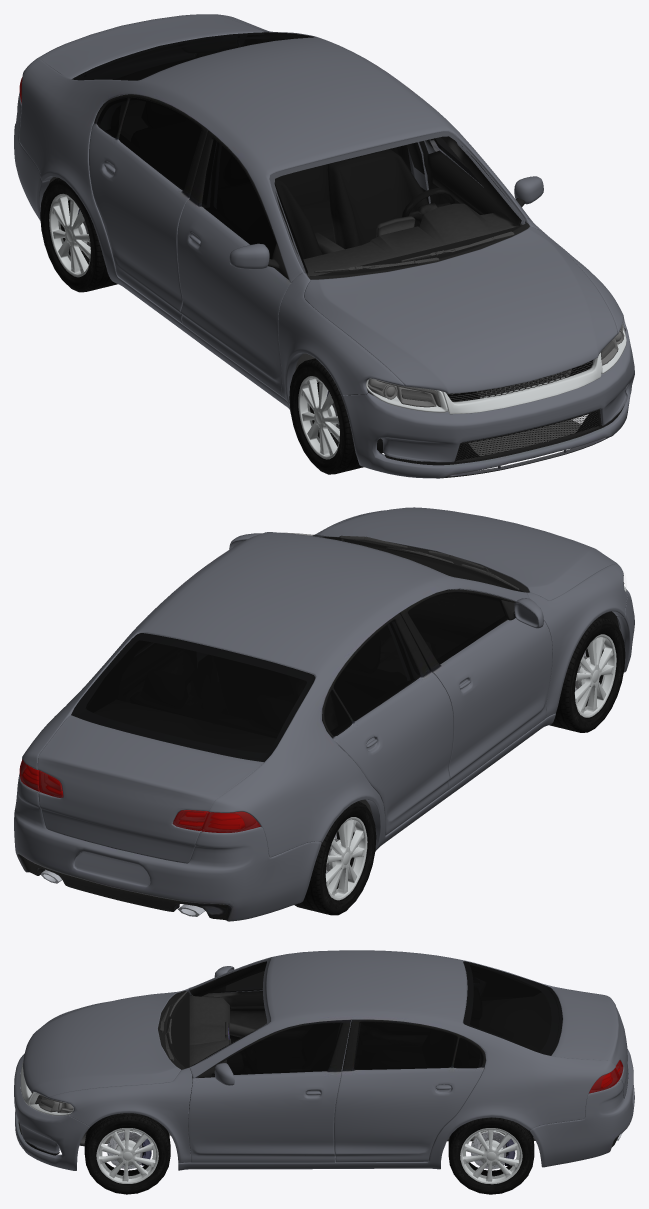
File: sedan-medio.glb
The picture shows the model from 3 angles, top to bottom: view 1: azimuth 30°, elevation 25°; view 2: azimuth 150°, elevation 25°; view 3: azimuth 270°, elevation 25°; orthographic projection. The views are drawn at different scales.
Parts seen in each view (by area): view 1: sedan-unibody_65, hood_60, windshield_102, bumper-front_8, door-front-r_17, door-rear-r_23, front-seat-backrest_39, fender-front-r_33, dashboard_13, trunk_99, door-rear-window-glass-r_27, door-front-window-glass-r_19 (+22 smaller); view 2: sedan-unibody_65, glass-rear_42, trunk_99, bumper-rear_10, door-front-r_17, door-rear-r_23, hood_60, fender-front-r_33, door-rear-window-glass-r_27, door-front-window-glass-r_19, generic-tire-low.001_125, generic-tire-low.003_133 (+9 smaller); view 3: sedan-unibody_65, door-front-l_16, door-rear-l_22, hood_60, windshield_102, glass-rear_42, fender-front-l_32, bumper-rear_10, trunk_99, door-rear-window-glass-l_26, door-front-window-glass-l_18, bumper-front_8 (+14 smaller).
Boxes of the visible parts, x1,y1,x2,y2 form: sedan-unibody_65: [19, 14, 533, 410]; hood_60: [304, 226, 617, 393]; windshield_102: [270, 131, 526, 275]; bumper-front_8: [342, 328, 634, 478]; door-front-r_17: [177, 130, 291, 396]; door-rear-r_23: [89, 94, 208, 323]; front-seat-backrest_39: [327, 149, 428, 249]; fender-front-r_33: [278, 272, 404, 403]; dashboard_13: [303, 203, 520, 276]; trunk_99: [38, 14, 263, 78]; door-rear-window-glass-r_27: [119, 98, 201, 190]; door-front-window-glass-r_19: [202, 139, 276, 259]; sedan-unibody_65: [20, 532, 555, 857]; glass-rear_42: [71, 633, 315, 761]; trunk_99: [37, 715, 263, 863]; bumper-rear_10: [14, 774, 321, 921]; door-front-r_17: [400, 589, 552, 790]; door-rear-r_23: [322, 613, 453, 835]; hood_60: [313, 507, 617, 600]; fender-front-r_33: [527, 564, 627, 717]; door-rear-window-glass-r_27: [333, 620, 420, 721]; door-front-window-glass-r_19: [408, 592, 506, 664]; generic-tire-low.001_125: [549, 616, 625, 732]; generic-tire-low.003_133: [294, 801, 376, 915]; sedan-unibody_65: [178, 950, 620, 1170]; door-front-l_16: [188, 1020, 350, 1162]; door-rear-l_22: [334, 1019, 485, 1162]; hood_60: [22, 991, 180, 1098]; windshield_102: [166, 959, 270, 1067]; glass-rear_42: [463, 961, 562, 1055]; fender-front-l_32: [49, 1067, 192, 1163]; bumper-rear_10: [529, 1049, 634, 1167]; trunk_99: [551, 987, 628, 1098]; door-rear-window-glass-l_26: [353, 1022, 457, 1069]; door-front-window-glass-l_18: [227, 1023, 341, 1074]; bumper-front_8: [14, 1054, 89, 1170].
Size of the model in its own units: 2.1 by 1.5 by 4.98.
23 materials, 11 textured.
